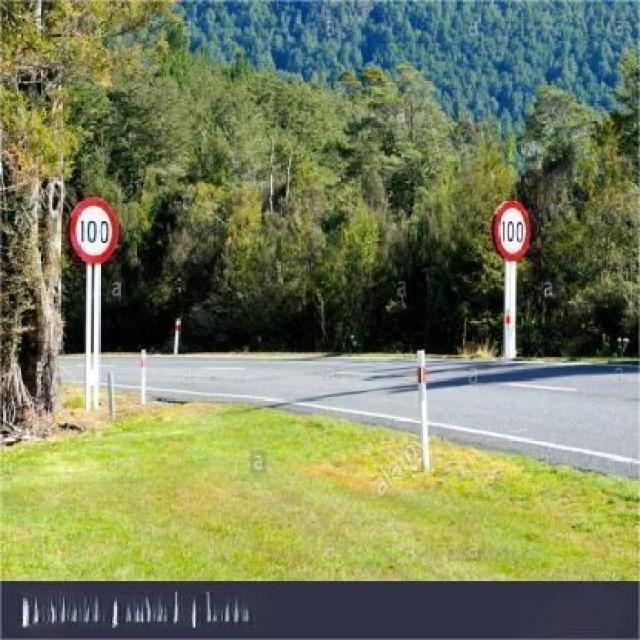speed limit 100: (68, 197, 119, 263), (491, 200, 532, 259)
